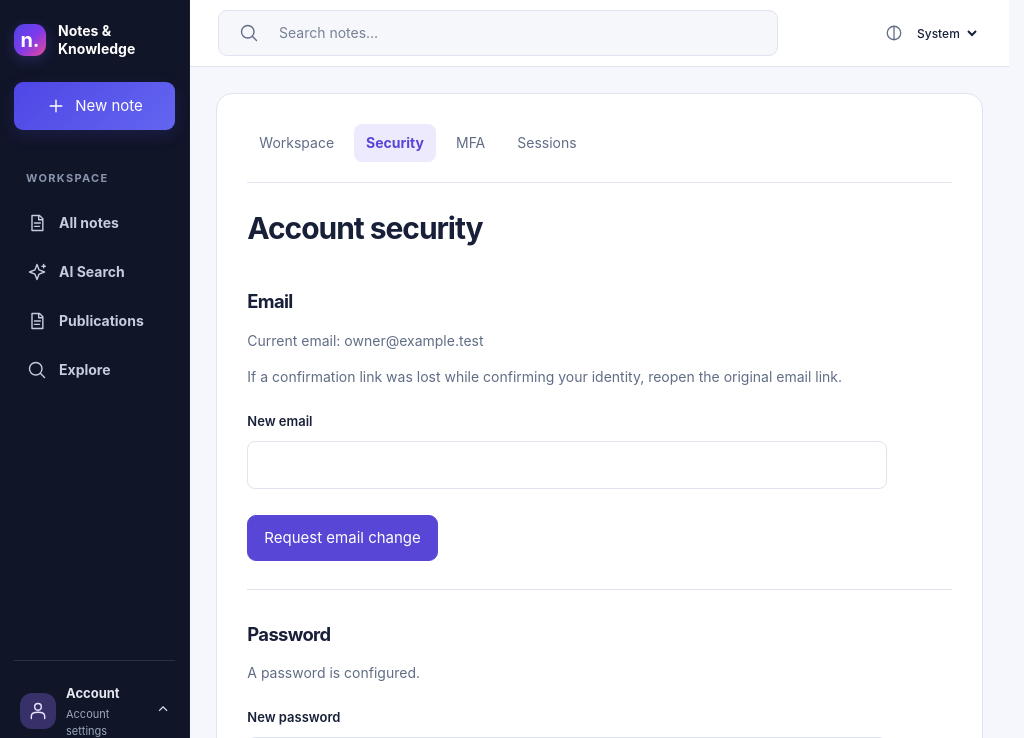
Test case: security settings browser journey › requests email change with generic acceptance without changing the displayed email
The width and height of the screenshot is (1024, 738).
Expected: the text "Current email: owner@example.test" is shown, [247,332,484,349]
Type "new@example.test" into the field labelled "New email" at x=567, y=465, box [247,441,887,489]
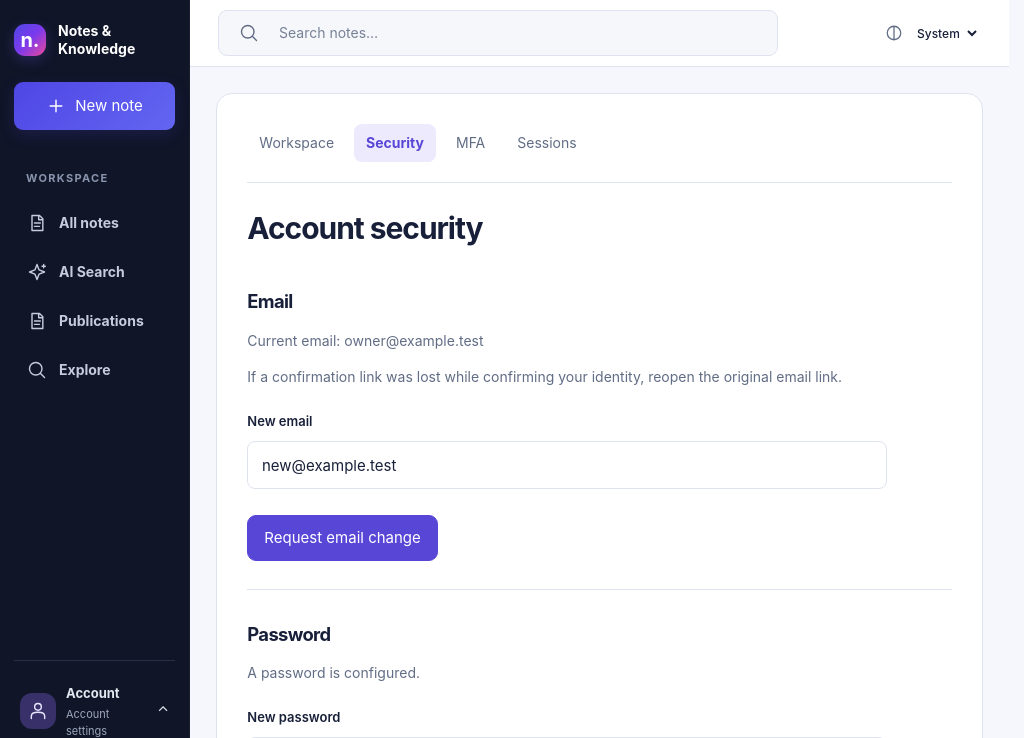
Click the button "Request email change" at x=343, y=538, box [247,515,438,561]
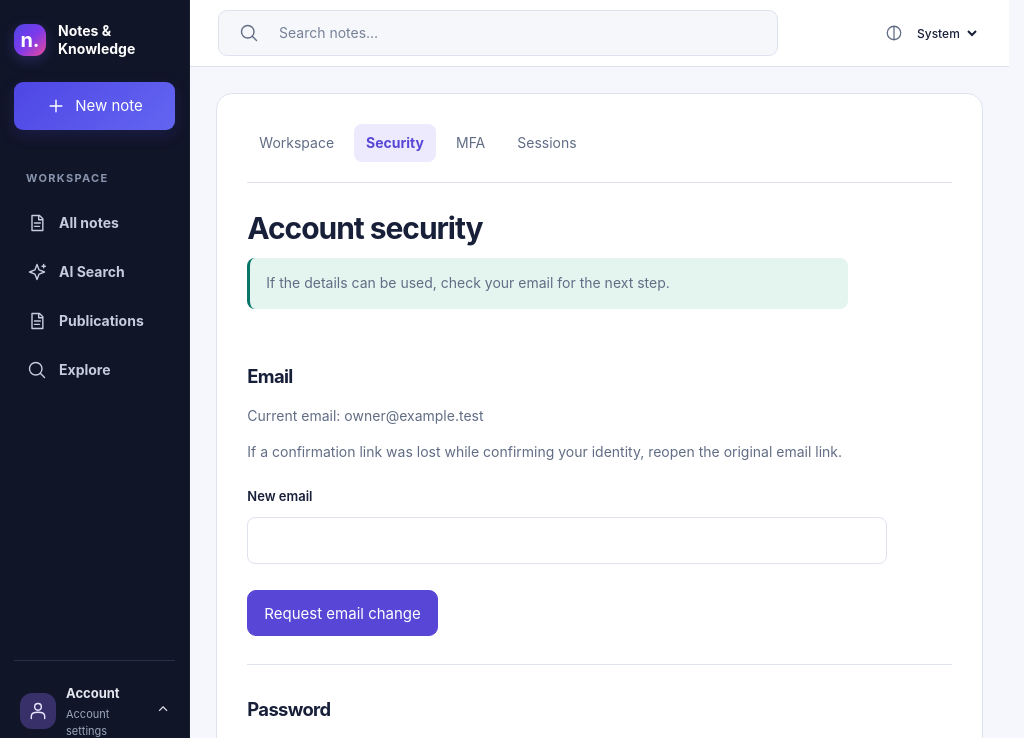
Expected: the text "Current email: owner@example.test" is shown, [247,407,484,424]
Expected: the text "If the details can be used, check your email for the next step." is shown, [247,258,848,309]
